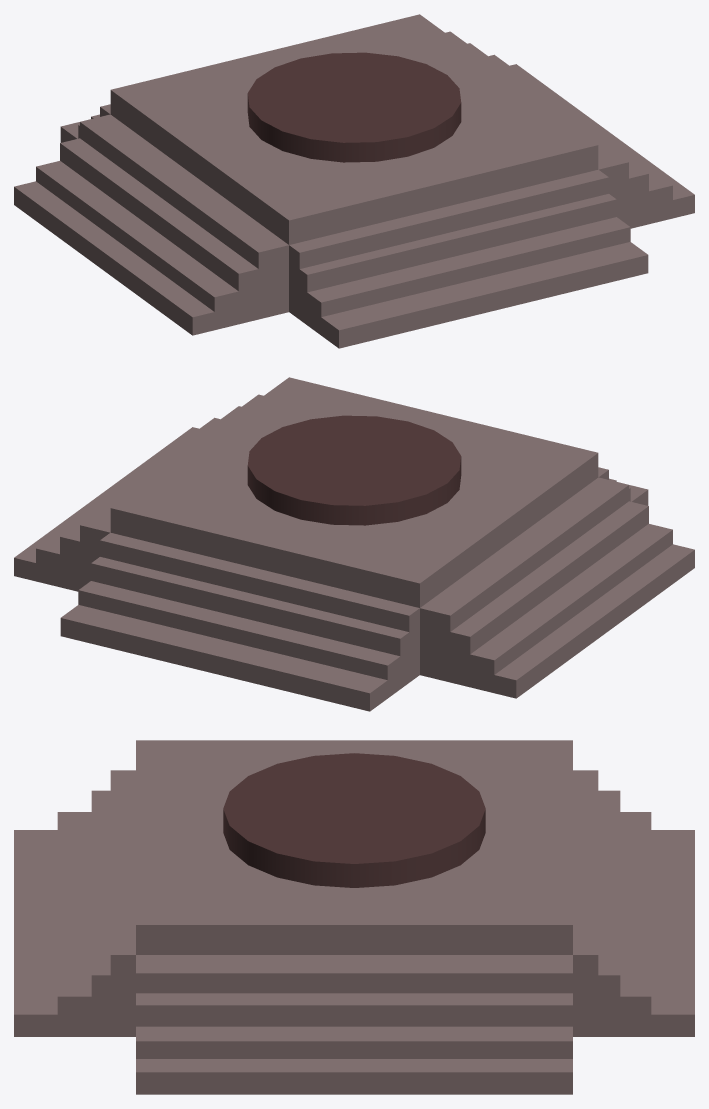
The model's file is Pond Pedestal.fbx.
The picture shows the model from 3 angles, top to bottom: view 1: azimuth 30°, elevation 25°; view 2: azimuth 150°, elevation 25°; view 3: azimuth 270°, elevation 25°; orthographic projection. The views are drawn at different scales.
Parts seen in each view (by area): view 1: pCube1, pCylinder1; view 2: pCube1, pCylinder1; view 3: pCube1, pCylinder1.
Boxes of the visible parts, x1,y1,x2,y2 form: pCube1: [14, 14, 694, 348]; pCylinder1: [247, 52, 461, 162]; pCube1: [14, 377, 694, 711]; pCylinder1: [247, 415, 461, 525]; pCube1: [14, 740, 694, 1094]; pCylinder1: [223, 753, 485, 887].
Bounding box in the file's own units: 5.4 × 1.14 × 5.19.
